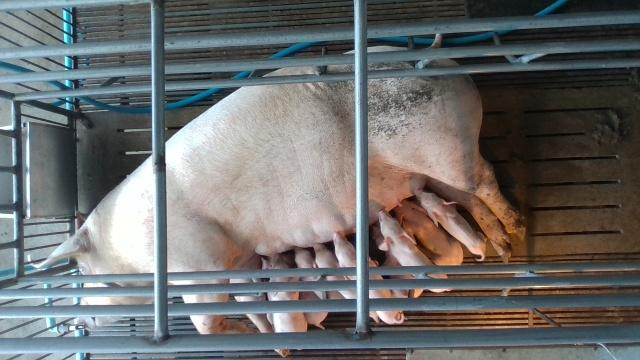piglet: (334, 232, 405, 324), (379, 210, 451, 292), (314, 243, 379, 324), (415, 189, 487, 262), (395, 200, 463, 265), (261, 255, 307, 332), (293, 247, 329, 330)
sow-sleep-lactate: (27, 47, 525, 333)
